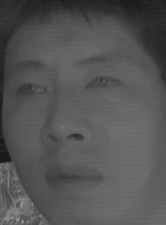eye: (84, 71, 125, 94), (13, 79, 48, 103)
mouth: (42, 154, 105, 198)
